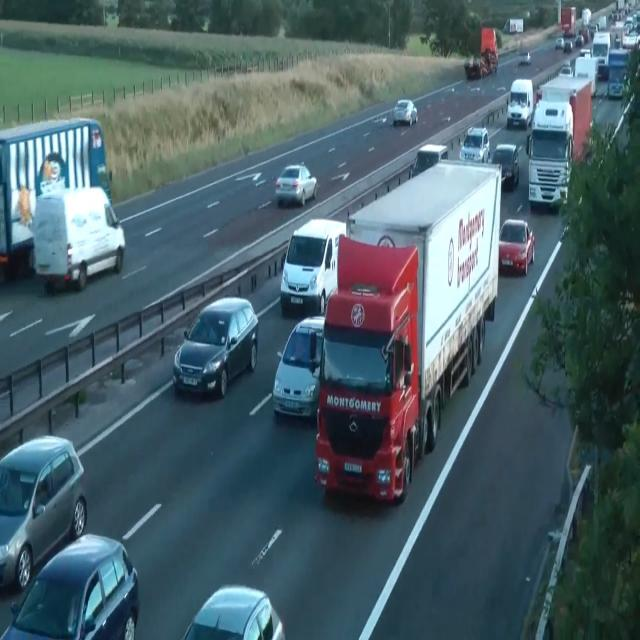bus: (0, 533, 140, 639), (181, 584, 285, 639), (272, 316, 325, 420), (498, 218, 535, 276), (275, 162, 317, 207), (408, 143, 448, 181), (491, 142, 519, 188), (392, 99, 418, 126), (463, 55, 482, 79), (622, 27, 640, 49), (607, 77, 624, 99), (555, 36, 573, 52), (558, 65, 573, 77), (518, 51, 530, 65), (555, 36, 565, 50), (563, 39, 573, 52), (575, 35, 583, 46)
jeep: (0, 434, 87, 590), (30, 184, 126, 292), (172, 295, 259, 398), (280, 217, 346, 315), (506, 77, 533, 128), (459, 125, 489, 163)
minibus: (314, 158, 502, 505), (0, 116, 113, 281), (526, 74, 593, 212), (464, 27, 498, 79), (480, 26, 498, 76), (560, 6, 576, 36), (502, 18, 524, 34)
